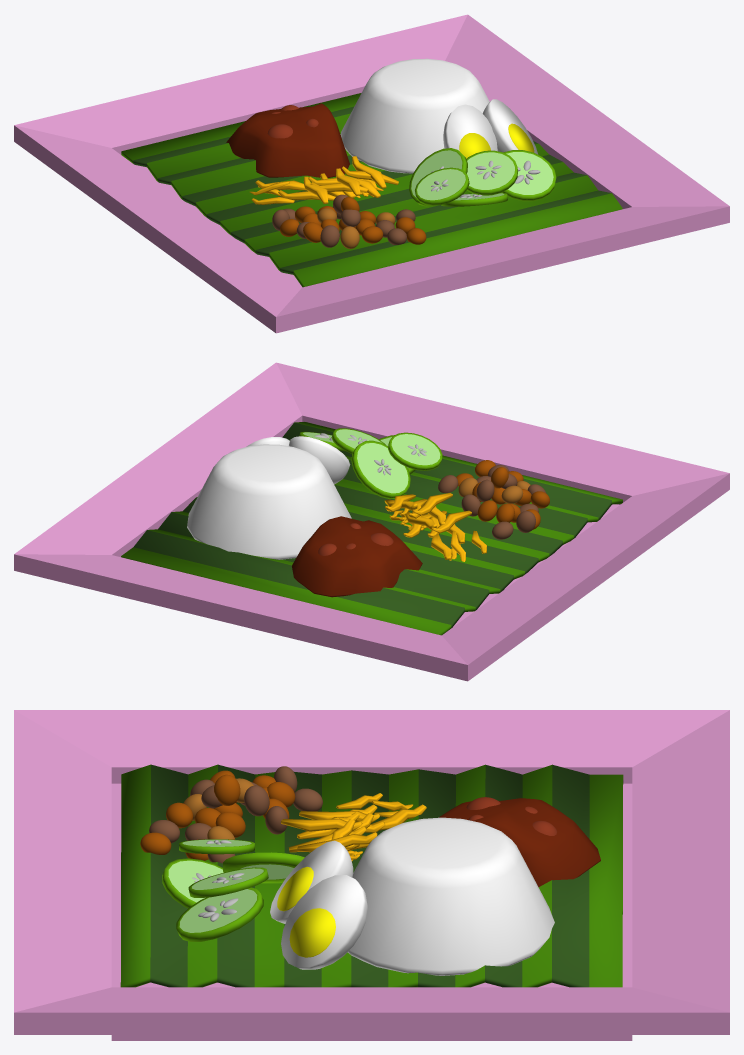
Rendered from NasiLemakPlated.fbx.
The picture shows the model from 3 angles, top to bottom: view 1: azimuth 30°, elevation 25°; view 2: azimuth 150°, elevation 25°; view 3: azimuth 270°, elevation 25°; orthographic projection. The views are drawn at different scales.
Visible parts, largest first — view 1: NasiLemakPlated; view 2: NasiLemakPlated; view 3: NasiLemakPlated.
Boxes of the visible parts, x1,y1,x2,y2 form: NasiLemakPlated: (14,14,729,333); NasiLemakPlated: (14,362,729,681); NasiLemakPlated: (14,710,729,1040).
Bounding box in the file's own units: 72.32 × 15.4 × 72.32.
